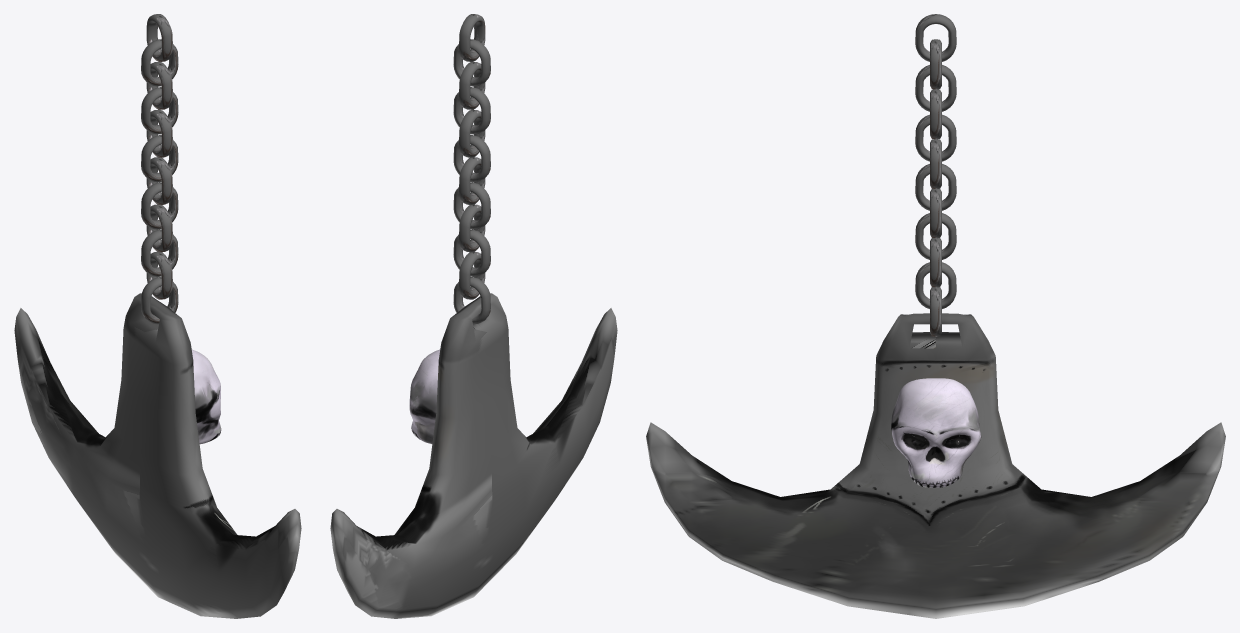
Rendered from SwingingBlade.fbx.
3 renders of one model, left to right at view 1: azimuth 30°, elevation 25°; view 2: azimuth 150°, elevation 25°; view 3: azimuth 270°, elevation 25°, orthographic. The views are drawn at different scales.
Parts seen in each view (by area): view 1: blade, Skull2, Torus.010, Torus.009, Torus.005, Torus.001, Torus.011, Torus.003, Torus.004, Torus.008, Torus, Torus.002 (+2 smaller); view 2: blade, Skull2, Torus.010, Torus.009, Torus.005, Torus.001, Torus.011, Torus.003, Torus.004, Torus.008, Torus, Torus.002 (+2 smaller); view 3: blade, Skull2, Torus.010, Torus, Torus.002, Torus.004, Torus.006, Torus.008.
Boxes of the visible parts, <box> form: blade: <box>14,293,301,618</box>; Skull2: <box>191,349,221,444</box>; Torus.010: <box>146,14,172,61</box>; Torus.009: <box>141,87,178,134</box>; Torus.005: <box>141,229,178,276</box>; Torus.001: <box>141,135,178,182</box>; Torus.011: <box>141,39,178,86</box>; Torus.003: <box>141,182,178,229</box>; Torus.004: <box>146,204,172,252</box>; Torus.008: <box>146,62,172,109</box>; Torus: <box>146,109,172,157</box>; Torus.002: <box>146,157,172,204</box>; blade: <box>330,293,617,618</box>; Skull2: <box>409,349,440,443</box>; Torus.010: <box>459,14,485,61</box>; Torus.009: <box>453,87,490,134</box>; Torus.005: <box>453,229,490,276</box>; Torus.001: <box>453,135,490,182</box>; Torus.011: <box>453,39,490,86</box>; Torus.003: <box>453,182,490,229</box>; Torus.004: <box>459,204,485,252</box>; Torus.008: <box>459,62,485,109</box>; Torus: <box>459,109,485,157</box>; Torus.002: <box>459,157,485,204</box>; blade: <box>646,313,1225,618</box>; Skull2: <box>891,378,981,487</box>; Torus.010: <box>915,14,956,61</box>; Torus: <box>915,114,956,161</box>; Torus.002: <box>915,164,956,210</box>; Torus.004: <box>915,213,956,259</box>; Torus.006: <box>915,262,956,308</box>; Torus.008: <box>915,65,956,111</box>.
Size of the model in its own units: 38.12 by 275 by 239.
Materials: 3 (3 with a texture image).
